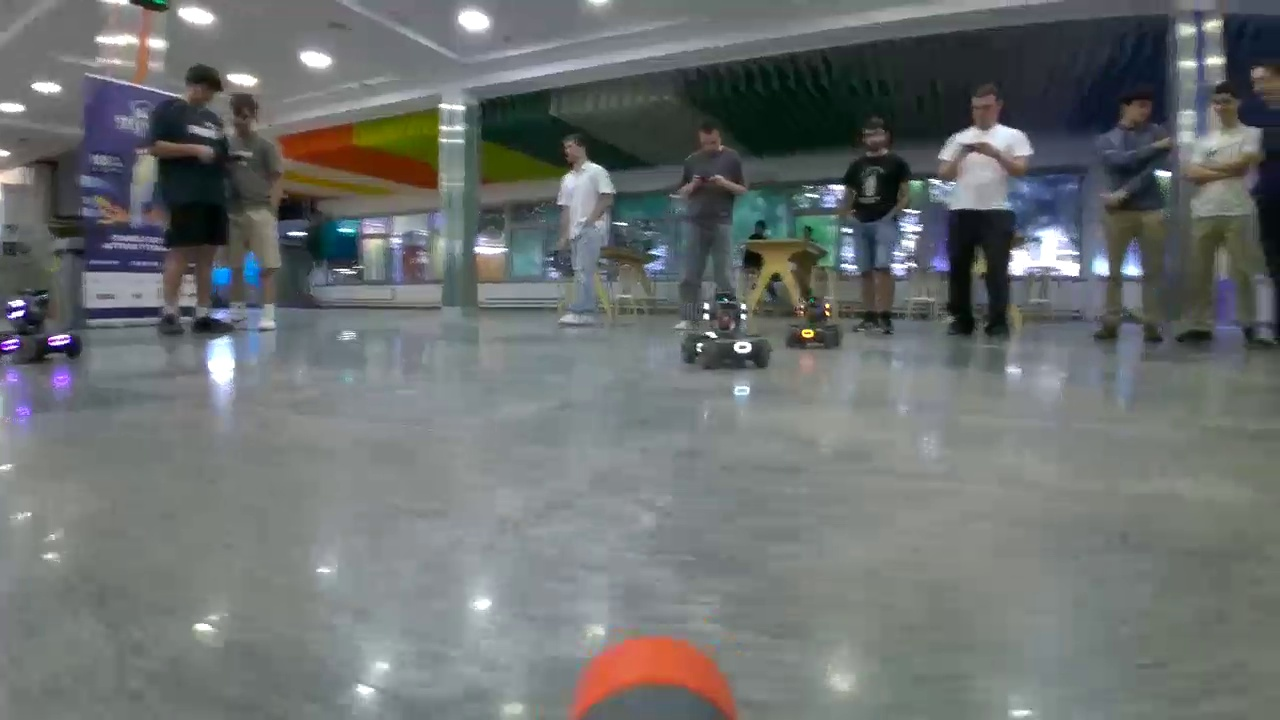robot: (681, 292, 772, 372), (1, 288, 82, 363), (792, 295, 839, 347)
